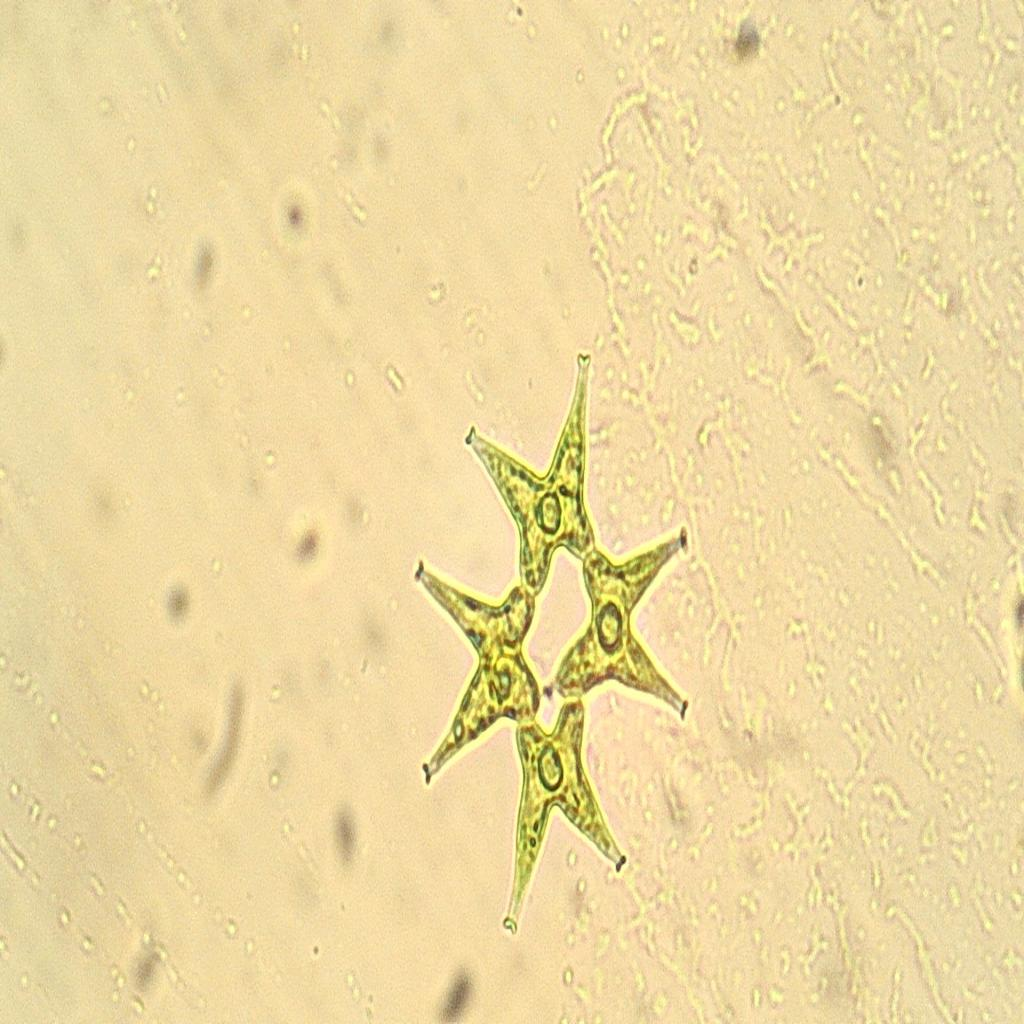Pediastrum_CF: (378, 336, 718, 963)
